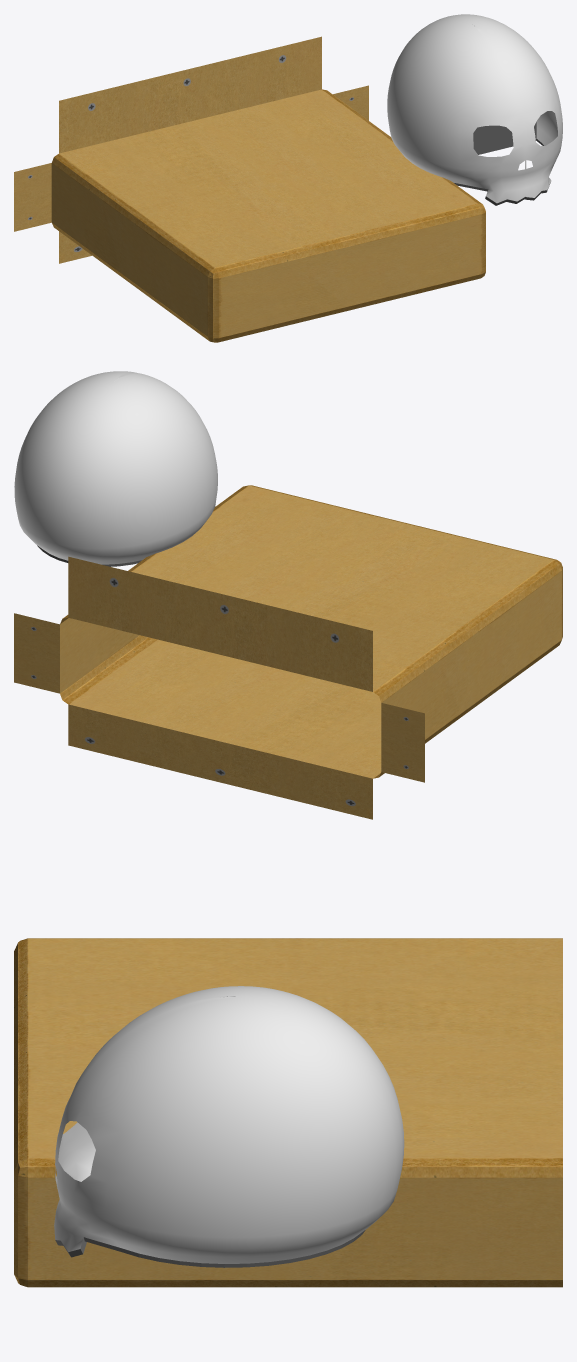
File: Adventurer Skull.fbx
The picture shows the model from 3 angles, top to bottom: view 1: azimuth 30°, elevation 25°; view 2: azimuth 150°, elevation 25°; view 3: azimuth 270°, elevation 25°; orthographic projection. The views are drawn at different scales.
Parts seen in each view (by area): view 1: Adventurer_Platform_2_01, Adventurer_Skull_1_01; view 2: Adventurer_Platform_2_01, Adventurer_Skull_1_01; view 3: Adventurer_Platform_2_01, Adventurer_Skull_1_01.
Part boxes in pixels (bbox=[...]): Adventurer_Platform_2_01: bbox=[14, 36, 485, 342]; Adventurer_Skull_1_01: bbox=[387, 14, 562, 205]; Adventurer_Platform_2_01: bbox=[14, 485, 562, 819]; Adventurer_Skull_1_01: bbox=[14, 371, 217, 566]; Adventurer_Platform_2_01: bbox=[14, 938, 562, 1287]; Adventurer_Skull_1_01: bbox=[54, 986, 404, 1267].
Size of the model in its own units: 18.59 by 9.45 by 11.84.
Materials: 6 (4 with a texture image).
